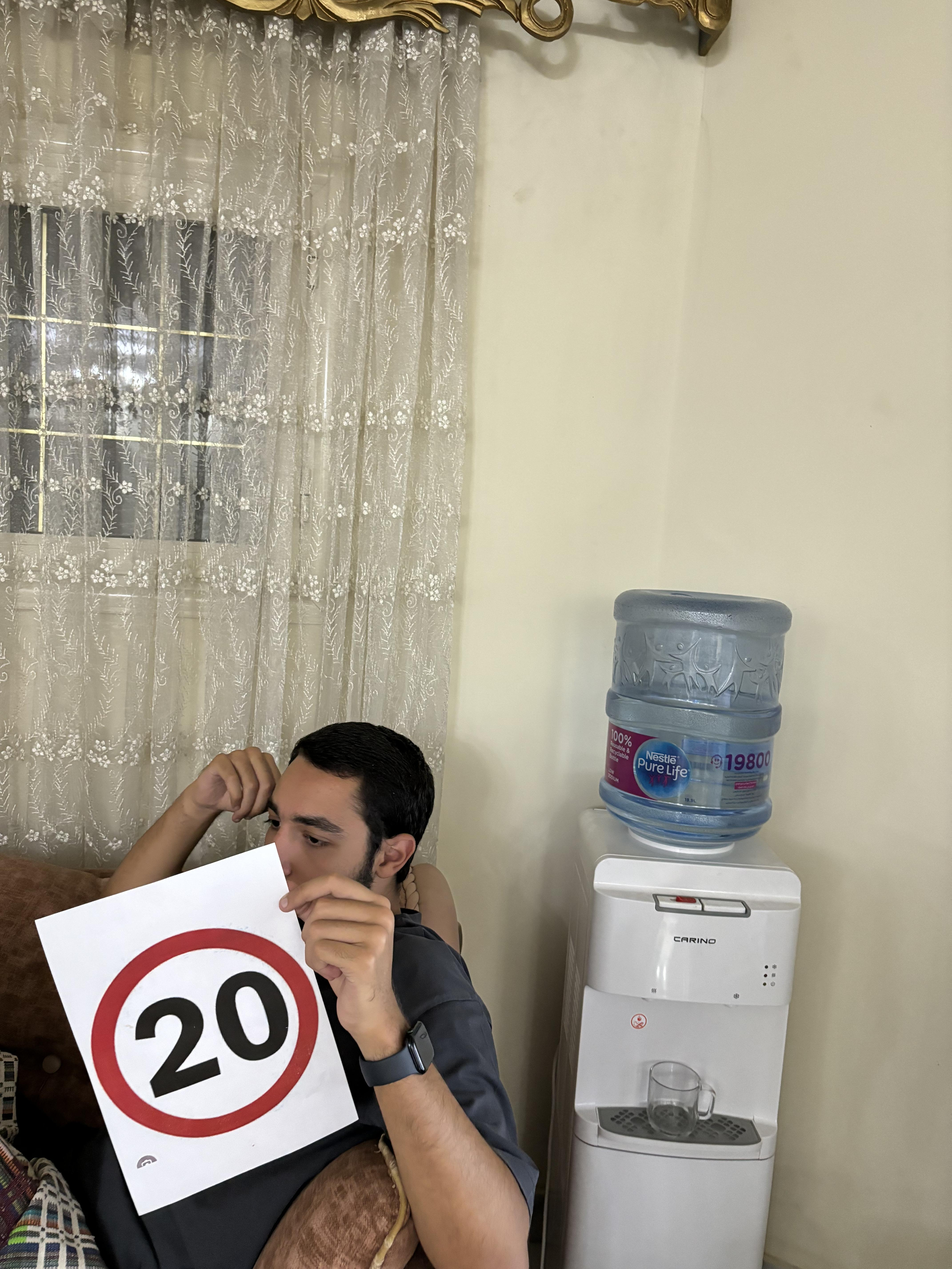20-Speed: (80, 918, 317, 1133)
